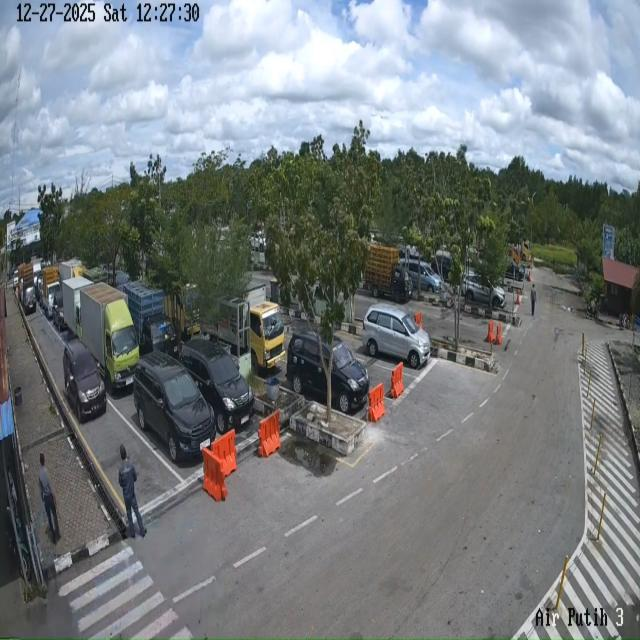Golongan IVA: (134, 352, 215, 462), (286, 329, 370, 414), (180, 339, 255, 434), (361, 304, 431, 368), (63, 339, 106, 423), (462, 271, 506, 308), (403, 259, 443, 294), (431, 250, 452, 282)
Golongan IVB: (122, 281, 178, 357), (364, 243, 413, 303), (41, 266, 60, 318)
Golongan VB: (203, 284, 286, 371), (80, 283, 139, 388), (62, 276, 93, 340)
